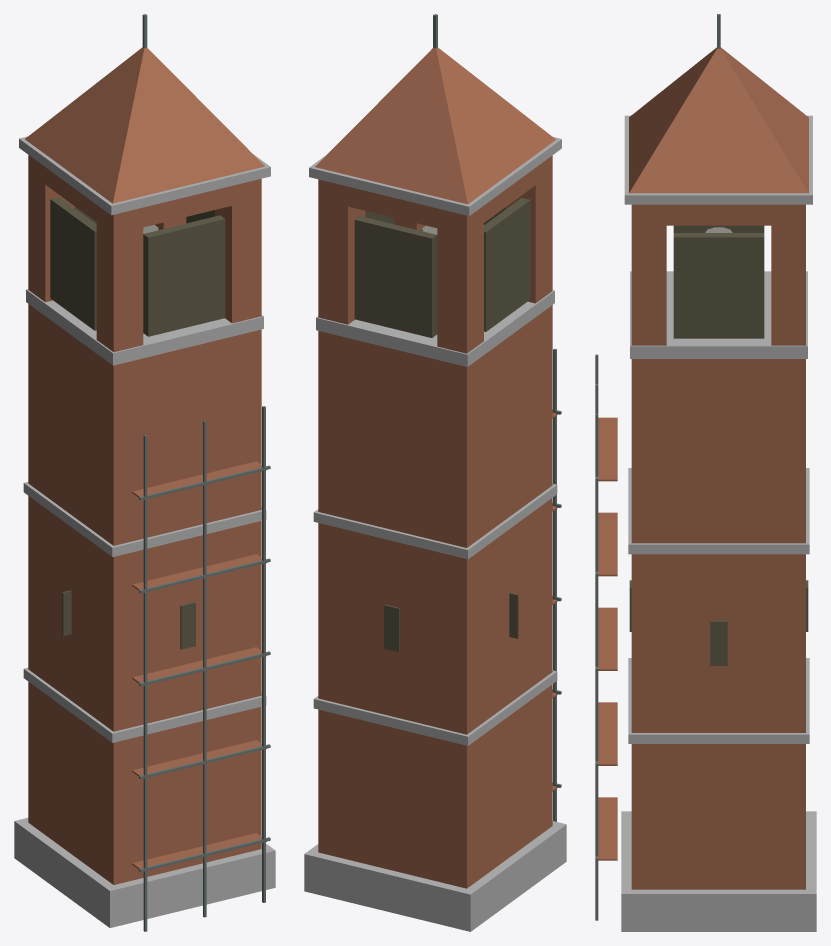
The model's file is SM_Campanario_v4_Andamio_LOD0.fbx.
The picture shows the model from 3 angles, left to right: view 1: azimuth 30°, elevation 25°; view 2: azimuth 150°, elevation 25°; view 3: azimuth 270°, elevation 25°; orthographic projection. The views are drawn at different scales.
Parts seen in each view (by area): view 1: SM_pueblo_valenciano_v24_LOD0; view 2: SM_pueblo_valenciano_v24_LOD0; view 3: SM_pueblo_valenciano_v24_LOD0.
Boxes of the visible parts, x1,y1,x2,y2 form: SM_pueblo_valenciano_v24_LOD0: (14,14,275,931); SM_pueblo_valenciano_v24_LOD0: (304,14,566,931); SM_pueblo_valenciano_v24_LOD0: (595,14,816,931).
Bounding box in the file's own units: 5.6 × 27.7 × 6.34.
